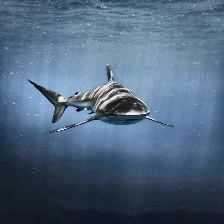shark: (29, 64, 150, 124)
